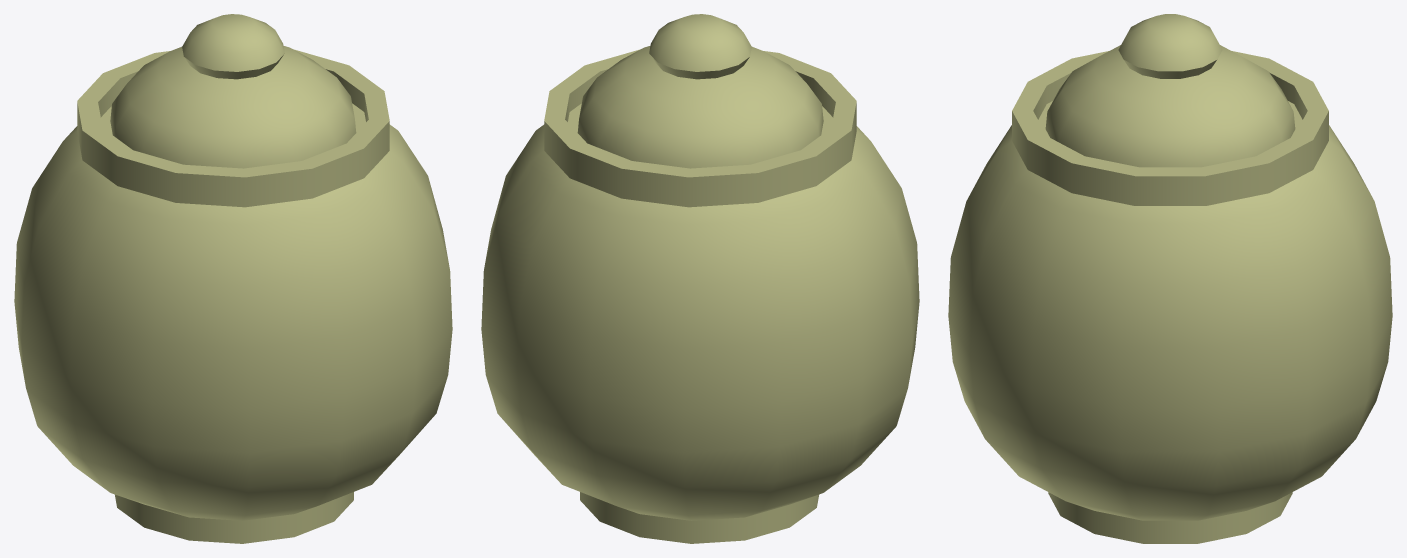
Rendered from sugar_bowl.fbx.
3 views of the same model, side by side, from view 1: azimuth 30°, elevation 25°; view 2: azimuth 150°, elevation 25°; view 3: azimuth 270°, elevation 25° (orthographic).
Visible parts, largest first — view 1: sugar_bowl; view 2: sugar_bowl; view 3: sugar_bowl.
Boxes of the visible parts, x1,y1,x2,y2 form: sugar_bowl: (14,14,452,543); sugar_bowl: (481,14,919,543); sugar_bowl: (948,14,1392,543).
Bounding box in the file's own units: 3.13 × 3.22 × 3.76.
